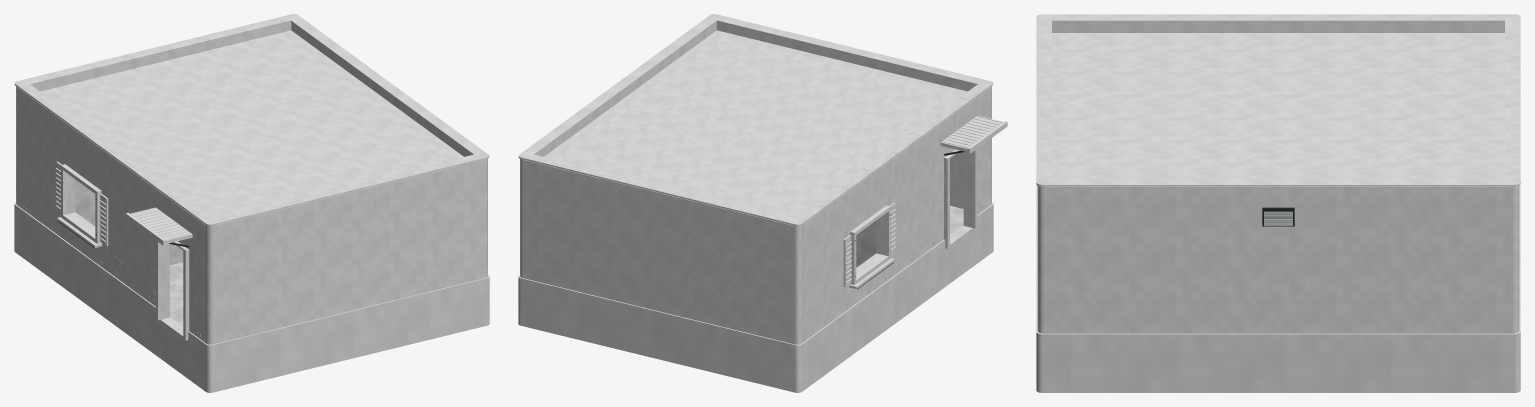
3 views of the same model, side by side, from view 1: azimuth 30°, elevation 25°; view 2: azimuth 150°, elevation 25°; view 3: azimuth 270°, elevation 25° (orthographic). The views are drawn at different scales.
Parts seen in each view (by area): view 1: SM_Homes_H02_Shell, SM_Homes_H02_Roof, SM_Homes_H02_Fixtures; view 2: SM_Homes_H02_Shell, SM_Homes_H02_Roof, SM_Homes_H02_Fixtures; view 3: SM_Homes_H02_Shell, SM_Homes_H02_Roof, SM_Homes_H02_Fixtures.
Part boxes in pixels (x1=…): SM_Homes_H02_Shell: x1=14, y1=95, x2=489, y2=392; SM_Homes_H02_Roof: x1=14, y1=14, x2=489, y2=235; SM_Homes_H02_Fixtures: x1=22, y1=161, x2=200, y2=340; SM_Homes_H02_Shell: x1=518, y1=95, x2=993, y2=392; SM_Homes_H02_Roof: x1=518, y1=14, x2=993, y2=235; SM_Homes_H02_Fixtures: x1=808, y1=115, x2=1007, y2=336; SM_Homes_H02_Shell: x1=1036, y1=184, x2=1520, y2=392; SM_Homes_H02_Roof: x1=1036, y1=14, x2=1520, y2=198; SM_Homes_H02_Fixtures: x1=1262, y1=207, x2=1294, y2=226.
Size of the model in its own units: 8.37 by 4.3 by 9.06.
9 materials, 7 textured.
